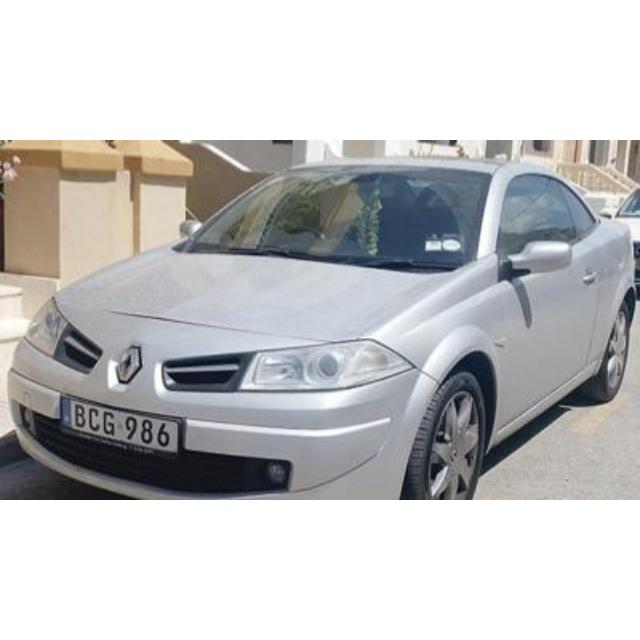car: (6, 153, 640, 495)
plate: (61, 394, 186, 456)
